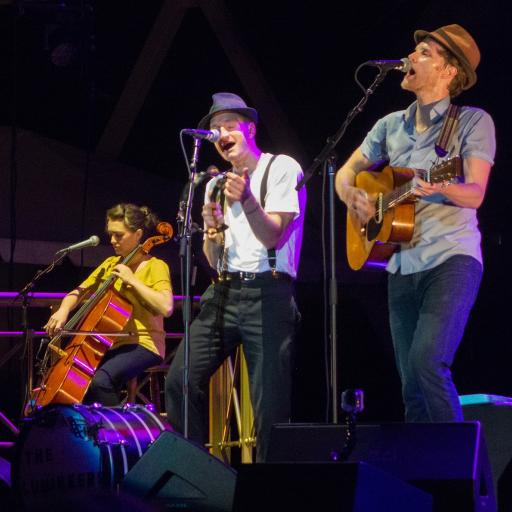Person: (318, 10, 512, 488), (146, 58, 330, 490), (7, 173, 197, 479)
no_gloves: (397, 143, 455, 213), (341, 181, 395, 235), (220, 164, 262, 218), (195, 188, 231, 244), (101, 253, 146, 297), (40, 302, 78, 344)
no_goggle: (204, 108, 259, 148), (396, 36, 456, 72), (96, 209, 144, 245)
no_helmet: (381, 14, 481, 100), (82, 194, 166, 282), (190, 85, 272, 159)
none: (353, 108, 499, 276), (199, 157, 314, 275), (82, 246, 180, 348)
